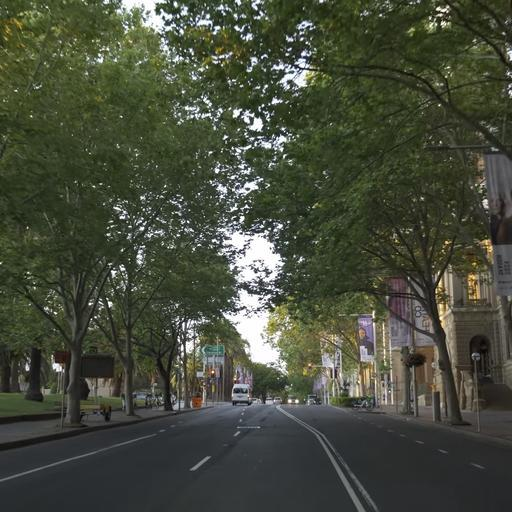Street light: (337, 310, 377, 407), (470, 351, 482, 432), (174, 361, 182, 413)
